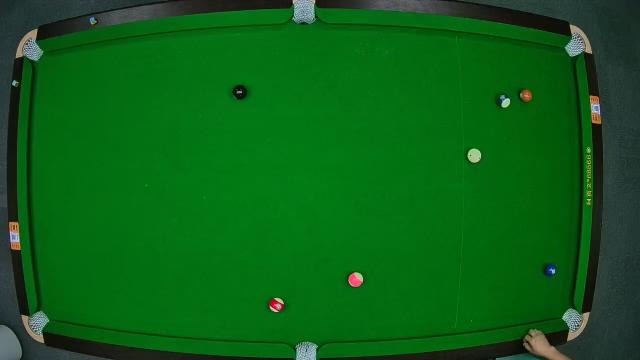bag1: (22, 38, 44, 60)
bag2: (291, 0, 317, 26)
bag3: (566, 29, 588, 57)
bag4: (29, 310, 49, 334)
bag5: (294, 340, 320, 360)
bag6: (563, 308, 585, 332)
ball0: (468, 148, 482, 164)
ball10: (496, 94, 510, 109)
ball11: (269, 295, 285, 313)
ball12: (348, 271, 364, 287)
ball2: (542, 262, 558, 278)
ball7: (520, 87, 532, 103)
ball8: (232, 86, 246, 100)
